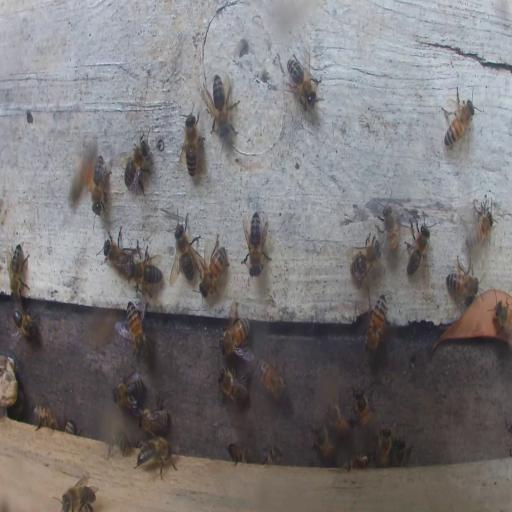nonpollenbee: (172, 211, 202, 281), (208, 70, 239, 136), (284, 54, 319, 110), (441, 90, 476, 146), (123, 132, 153, 196), (102, 226, 136, 278), (243, 210, 270, 274), (349, 230, 382, 282), (405, 215, 432, 276), (200, 239, 228, 296), (136, 436, 176, 474), (218, 310, 250, 356), (364, 294, 388, 352), (126, 302, 149, 360), (87, 151, 108, 214), (446, 258, 478, 299), (218, 365, 248, 406), (182, 112, 201, 176), (60, 479, 97, 511), (112, 374, 143, 411), (326, 398, 353, 440), (8, 244, 29, 298), (258, 361, 287, 400), (379, 202, 398, 261), (464, 210, 492, 250), (310, 421, 336, 461), (352, 383, 373, 432), (133, 256, 161, 289), (139, 407, 170, 435), (374, 422, 392, 468), (492, 300, 512, 340), (12, 308, 36, 340), (32, 404, 58, 430), (392, 436, 413, 464), (108, 431, 132, 455), (345, 450, 370, 470), (260, 444, 282, 464), (227, 443, 247, 464), (64, 420, 76, 434)
pollenbee: (67, 140, 100, 211)
